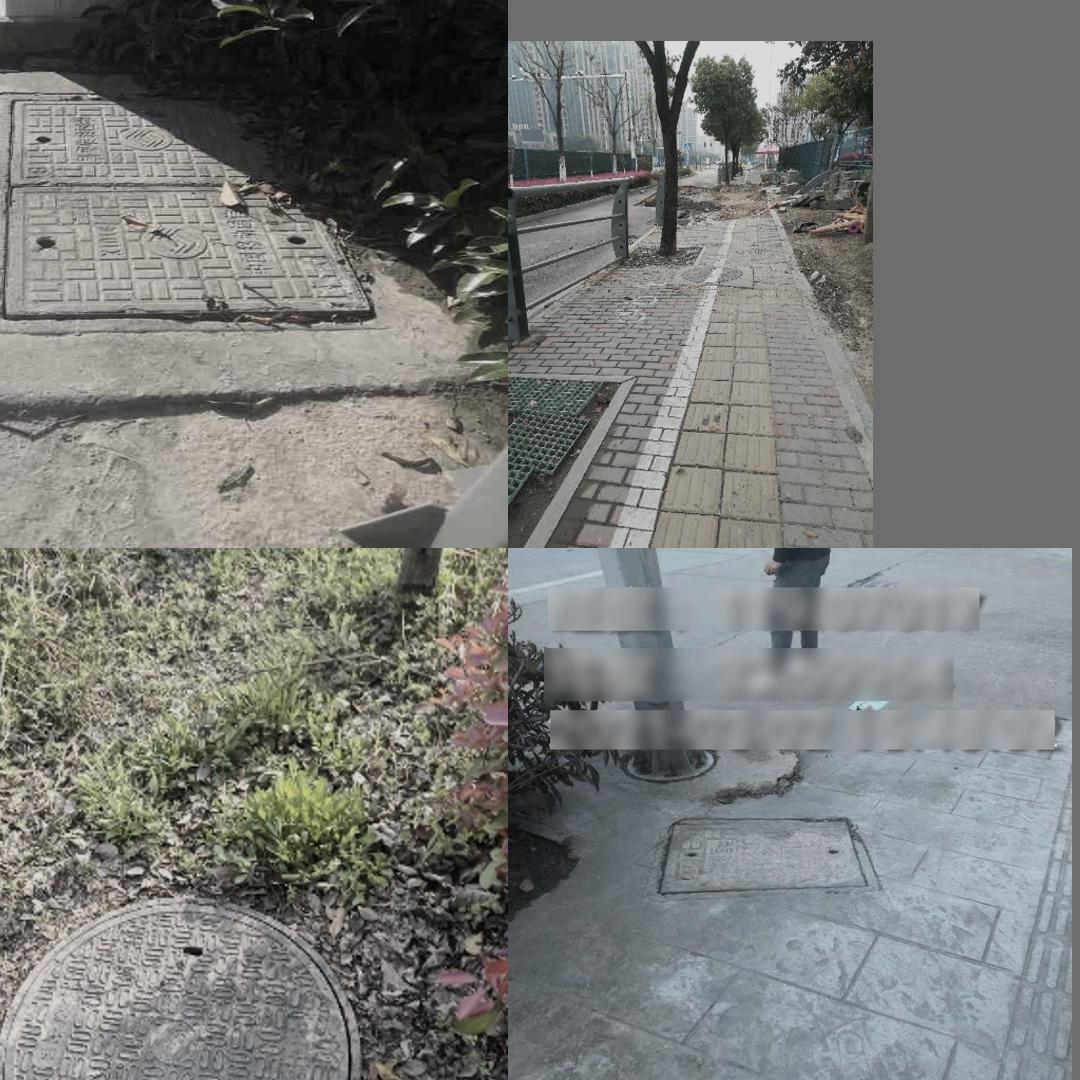good: (0, 92, 394, 328), (0, 899, 358, 1080), (649, 815, 884, 900), (679, 263, 741, 284)
